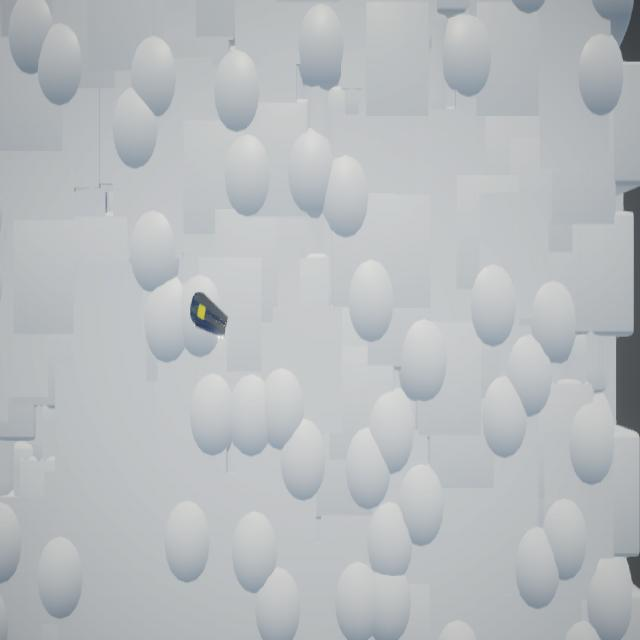handle_folk: (191, 293, 229, 339)
